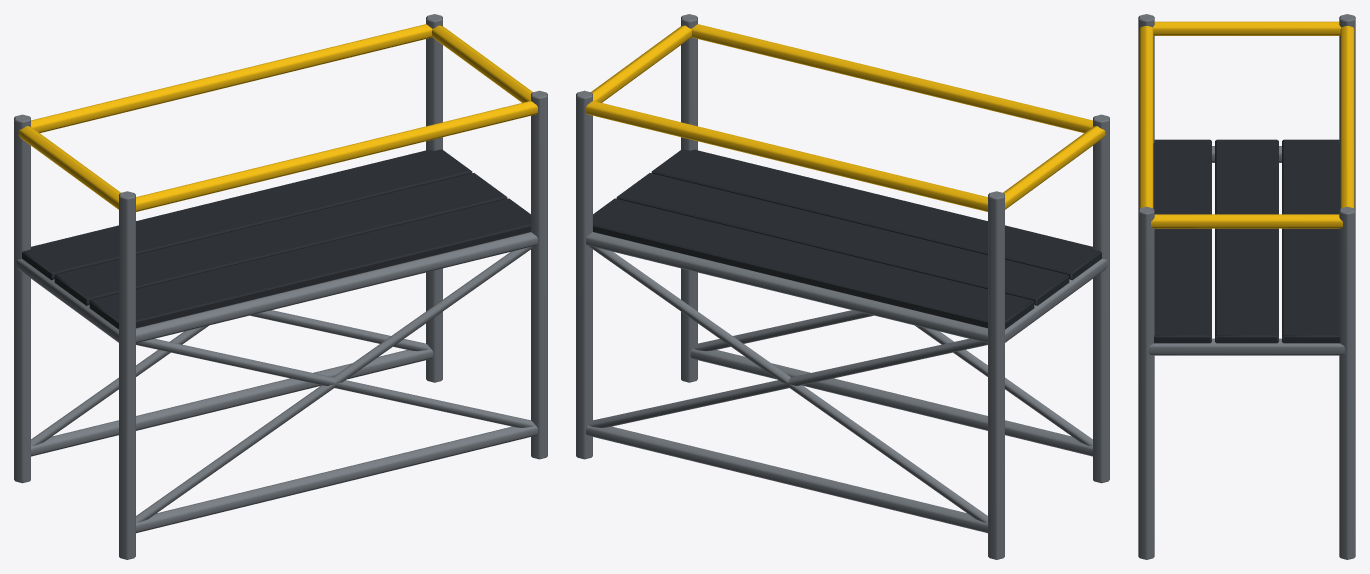
Rendered from CONSTRUCTION_SCAFFOLD_01.glb.
3 views of the same model, side by side, from view 1: azimuth 30°, elevation 25°; view 2: azimuth 150°, elevation 25°; view 3: azimuth 270°, elevation 25° (orthographic). The views are drawn at different scales.
Parts seen in each view (by area): view 1: CIVRUM_GAME_CONSTRUCTION_SCAFFOLD_01; view 2: CIVRUM_GAME_CONSTRUCTION_SCAFFOLD_01; view 3: CIVRUM_GAME_CONSTRUCTION_SCAFFOLD_01.
Boxes of the visible parts, x1,y1,x2,y2 form: CIVRUM_GAME_CONSTRUCTION_SCAFFOLD_01: (14, 14, 547, 559); CIVRUM_GAME_CONSTRUCTION_SCAFFOLD_01: (576, 14, 1109, 559); CIVRUM_GAME_CONSTRUCTION_SCAFFOLD_01: (1138, 14, 1355, 559).
Bounding box in the file's own units: 2.97 × 2.4 × 1.36.
